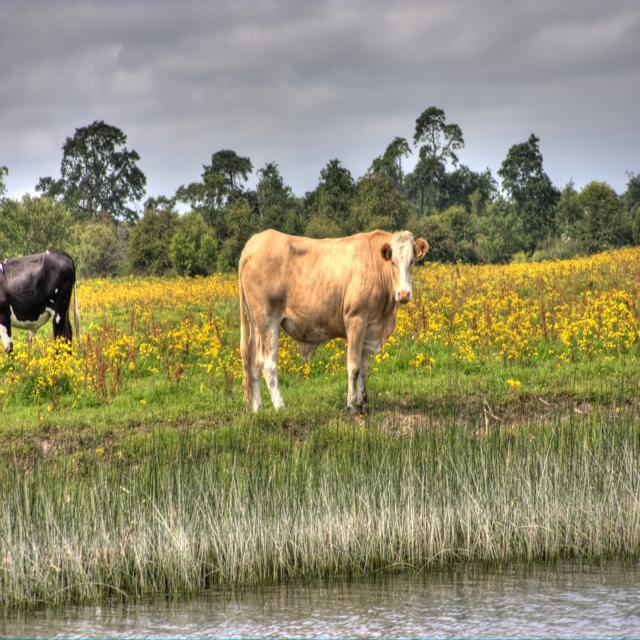cow: (239, 229, 426, 413), (0, 250, 80, 352)
